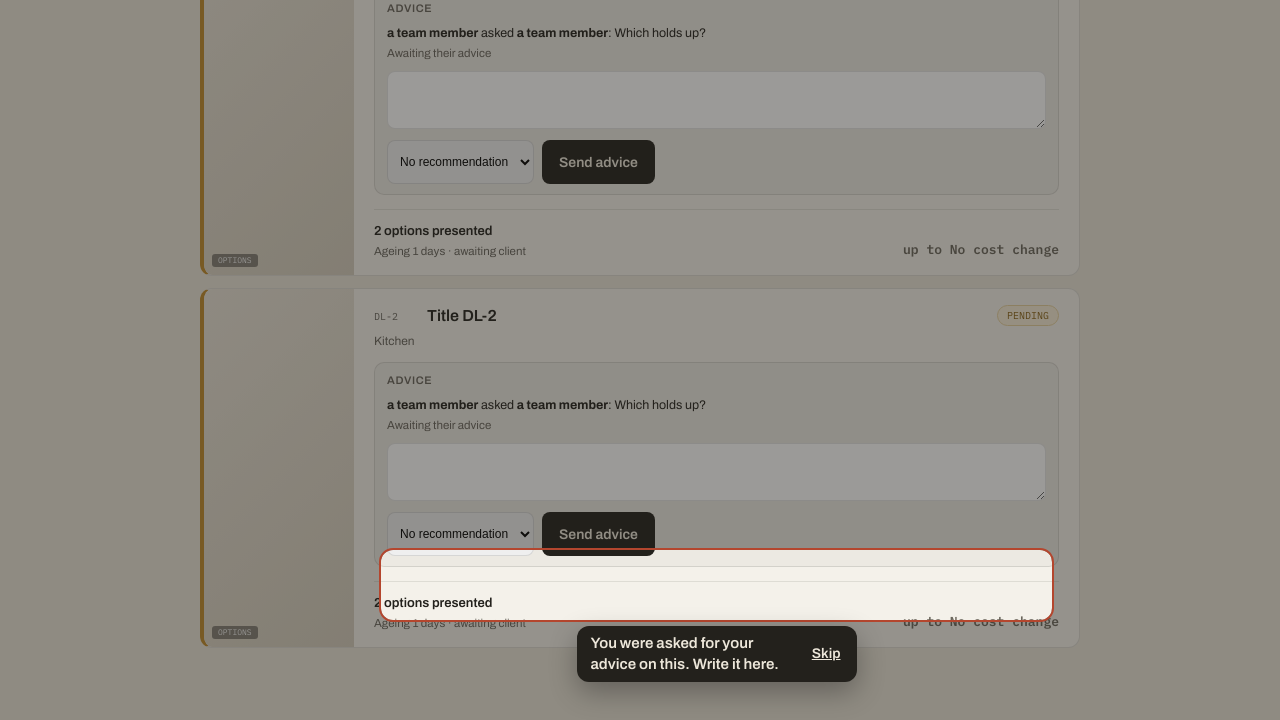
the consultant is guided through answering a request for advice › shows itself the first time, walks the advice box → Send, and is done once the advice is sent
(page scrolled)
Expected: the message with test id "guide-tip" shows "You were asked for your advice on this. Write it here.", [590,634,779,672]
Click the text box named "Your advice" below "Title DL-2".
click(716, 472)  # box [387,443,1046,500]
Wait 400 ms
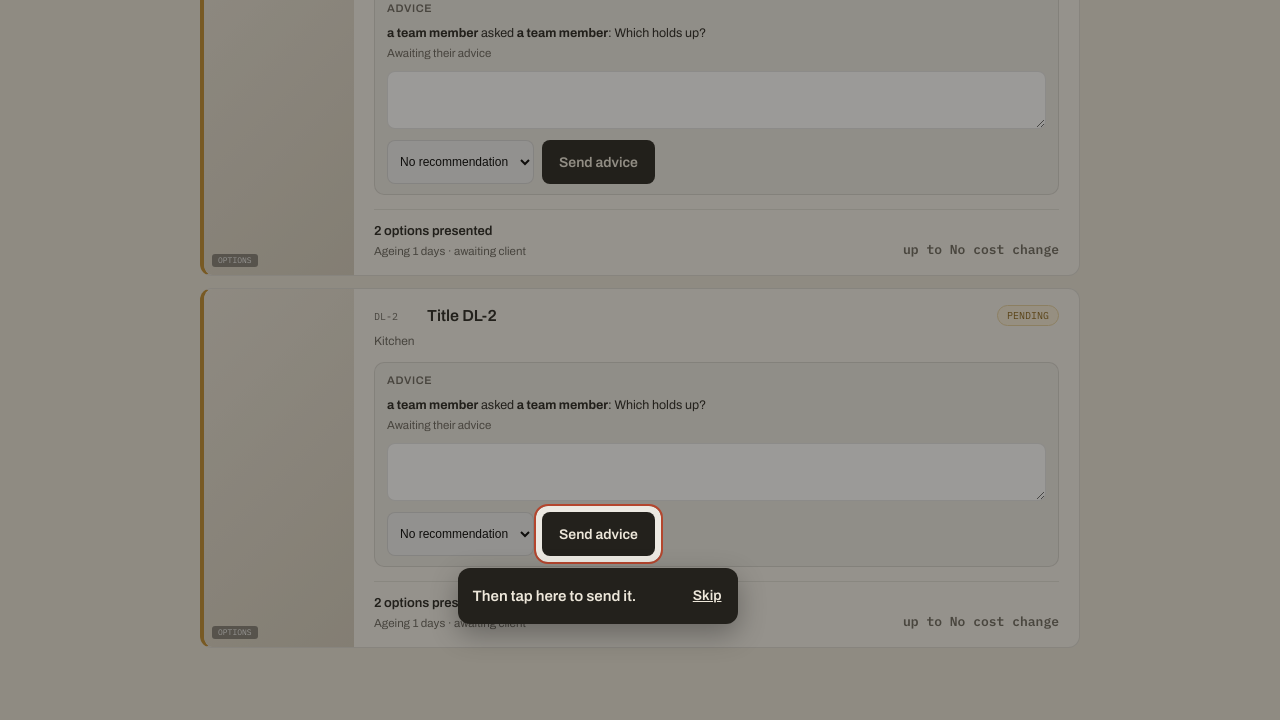
Result: the message with test id "guide-tip" shows "Then tap here to send it." at [472,588,636,604]
Type "Quartz holds up better here." into the text box named "Your advice" below "Title DL-2".
click(716, 472); type("Quartz holds up better here.")  # box [387,443,1046,500]
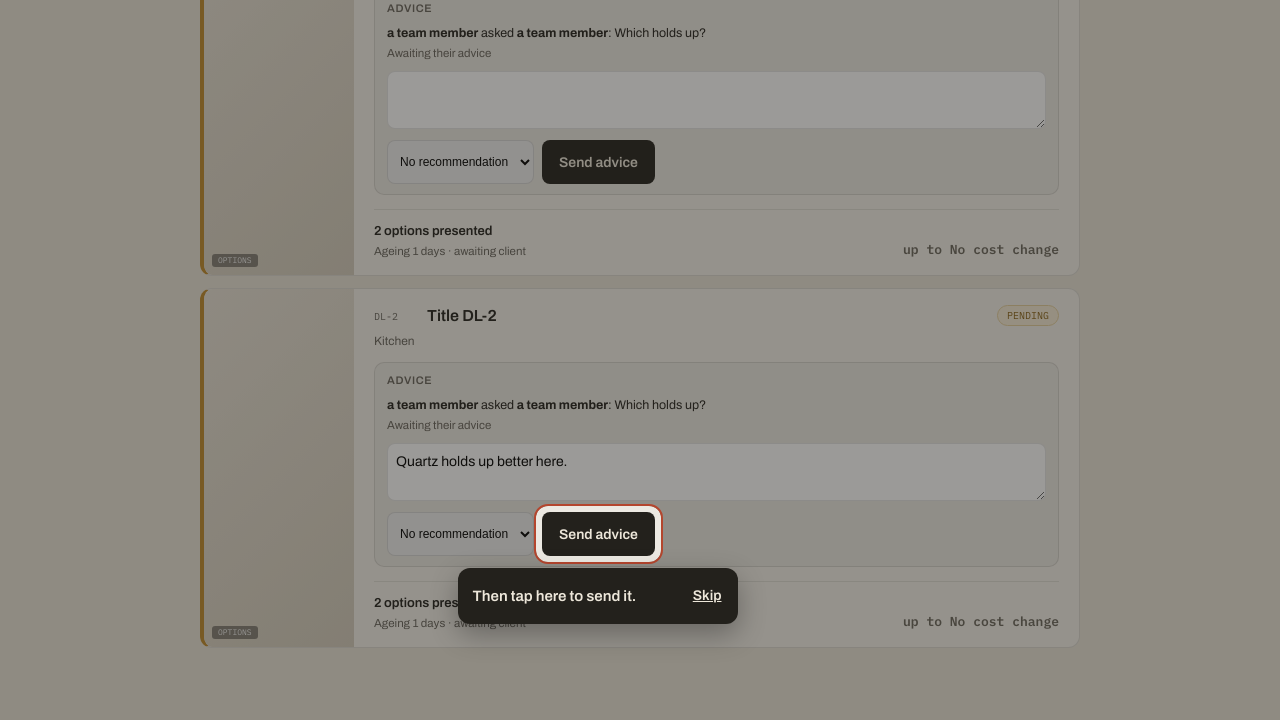
Click the button "Send advice" below "Title DL-2".
click(598, 534)  # box [542,512,655,556]
Wait 400 ms
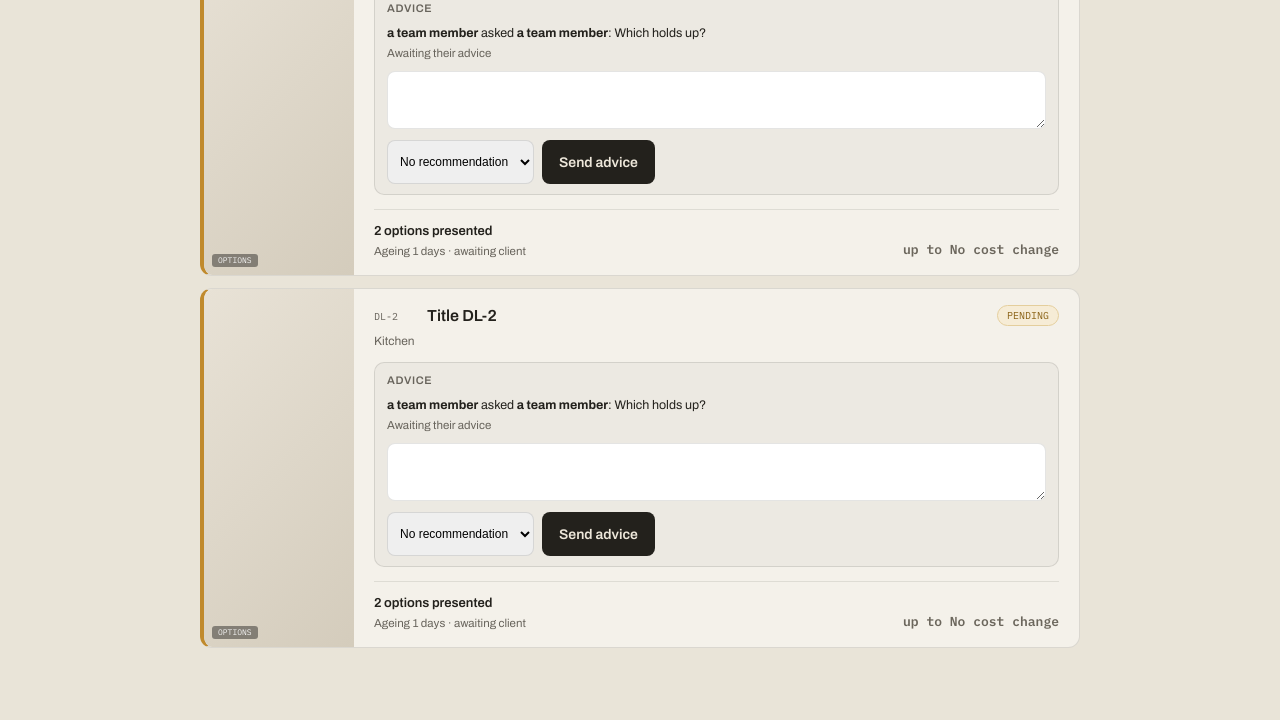
Result: the message with test id "guide-tip" is gone
